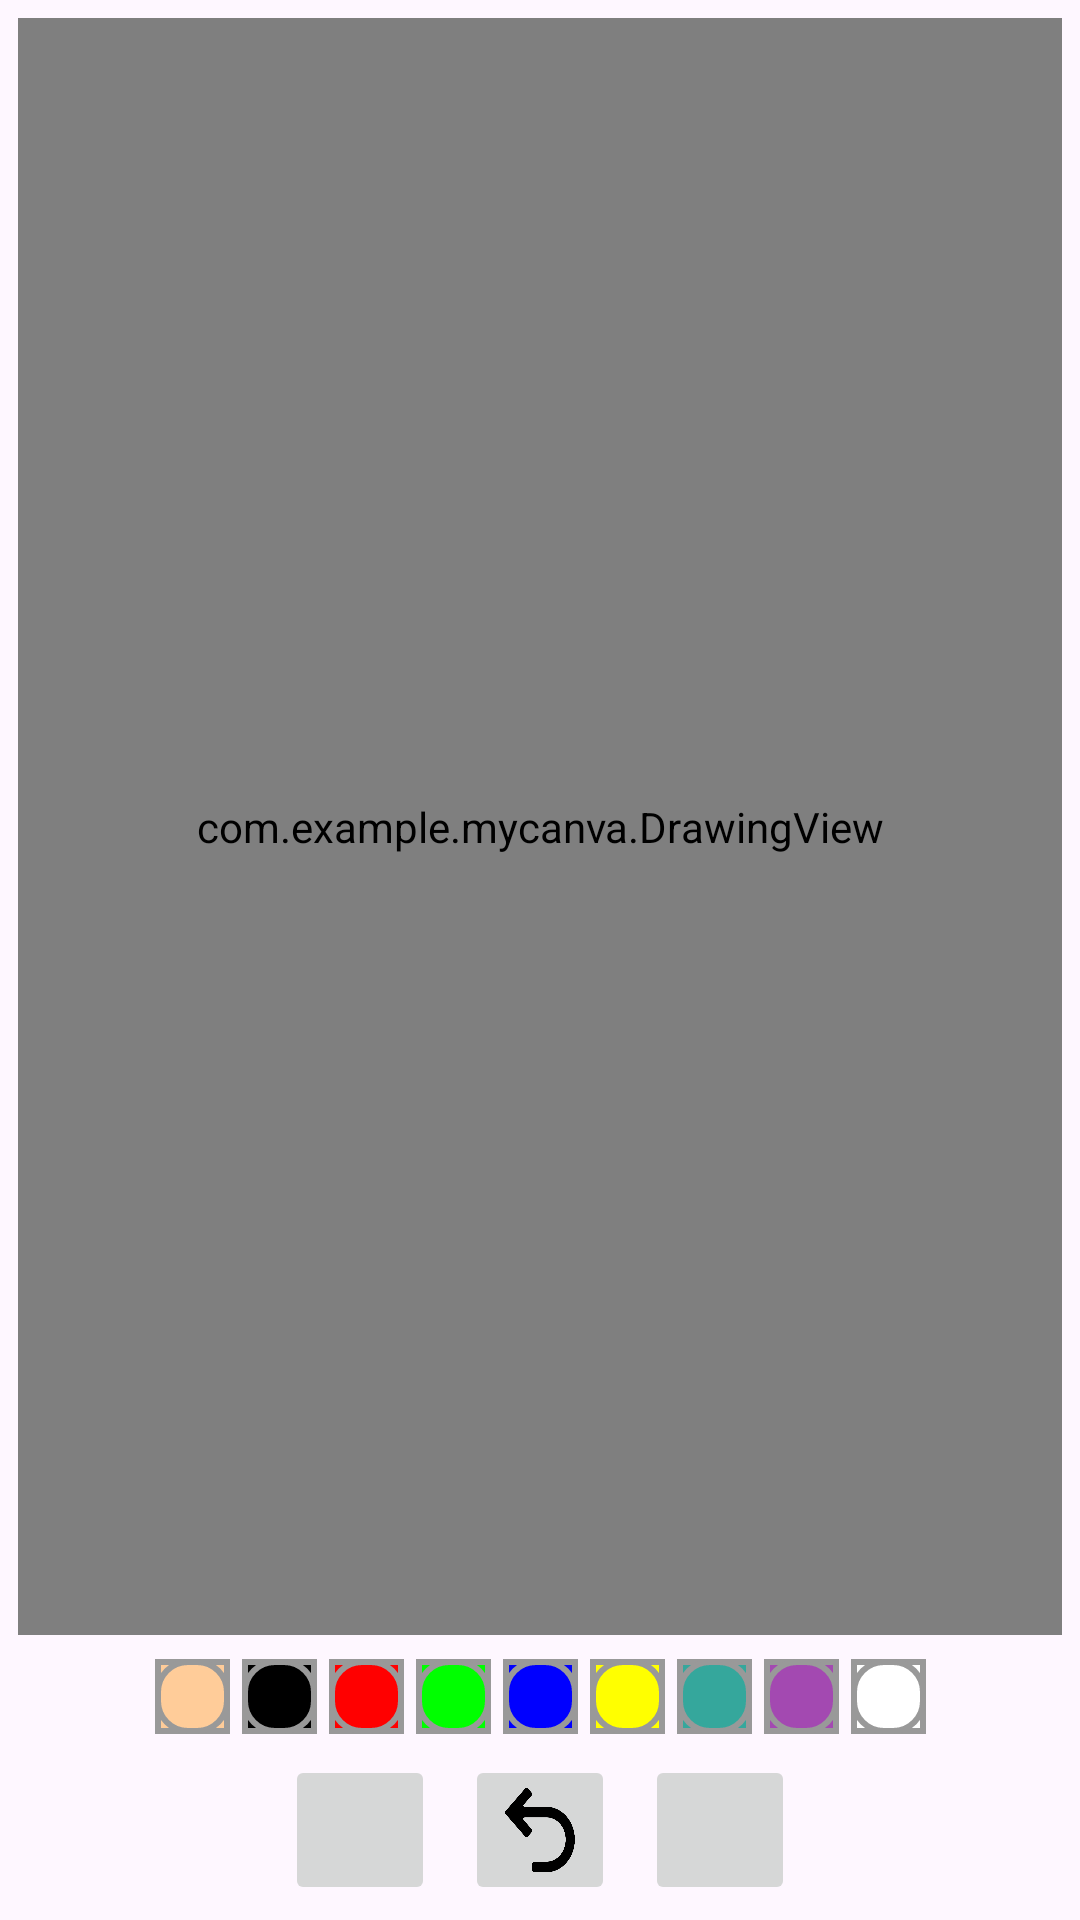

Locate icon controls on the screen. Image size 1080 x 1920, boxes as (x1, y1, x2, y2).
undo: (477, 1773, 603, 1887)
